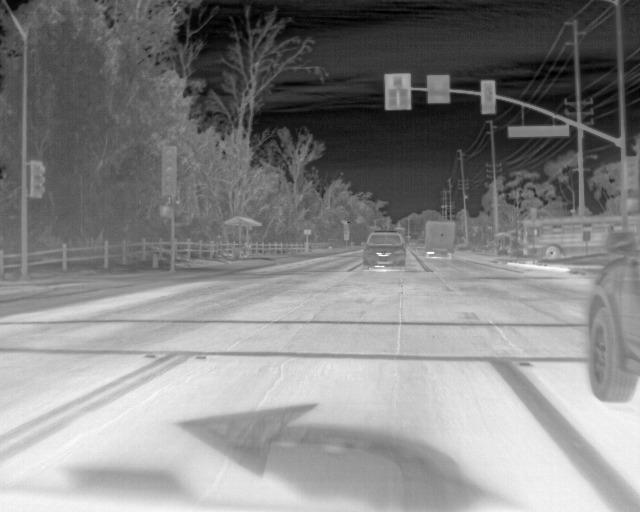car: (586, 196, 639, 402), (518, 217, 639, 259), (362, 231, 406, 270), (424, 221, 455, 260)
light: (624, 155, 639, 190), (164, 148, 173, 192), (36, 164, 45, 195), (484, 82, 493, 110), (388, 89, 397, 107), (399, 89, 407, 107), (161, 207, 170, 217), (394, 77, 402, 87)
sign: (427, 75, 450, 103), (508, 126, 569, 136), (583, 231, 590, 241), (531, 209, 536, 220), (344, 224, 349, 234), (304, 230, 311, 235), (344, 234, 349, 240)
